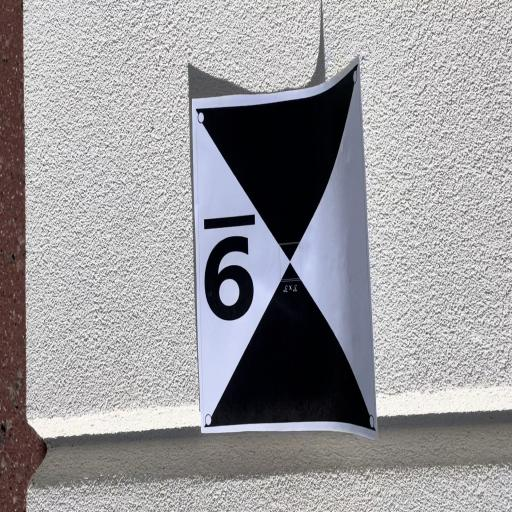target9: (193, 54, 377, 444)
